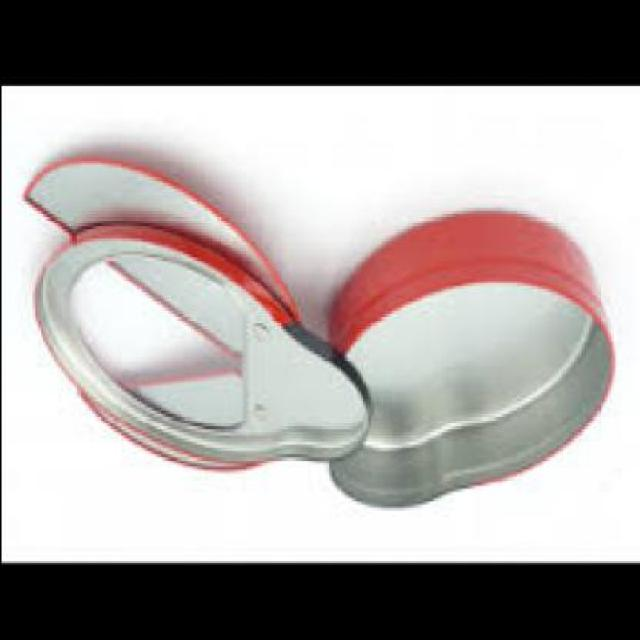METAL: (328, 214, 612, 512), (35, 225, 371, 471), (21, 159, 301, 324)
